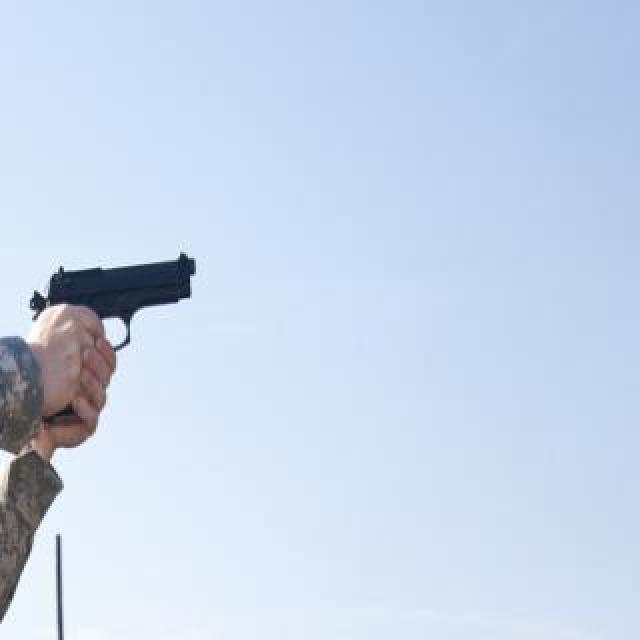Guns: (13, 234, 225, 372)
